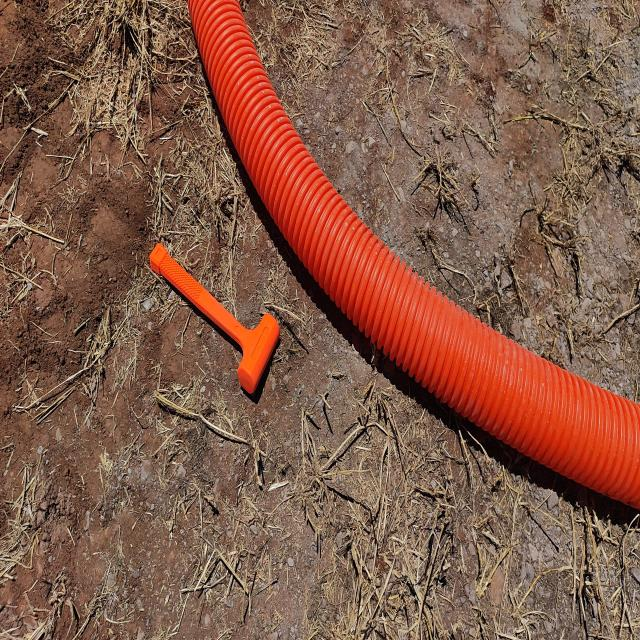Orange_hammer: (148, 241, 280, 396)
